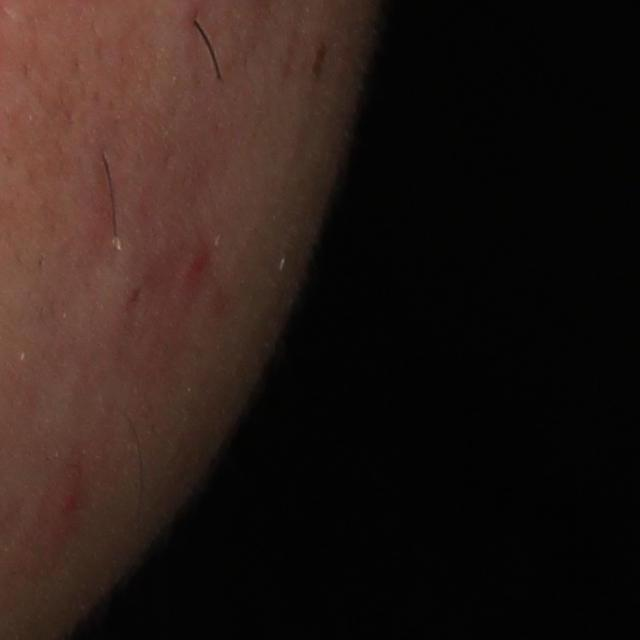nevus: (312, 39, 330, 80)
papule: (52, 469, 84, 530), (183, 246, 215, 290)
